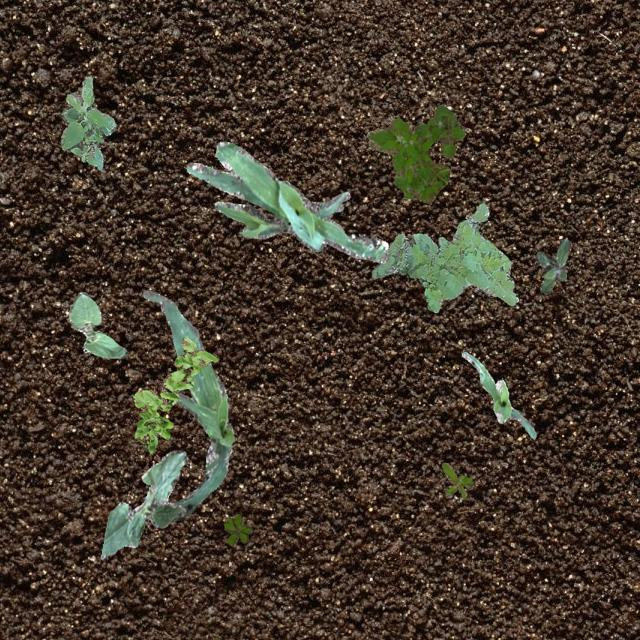crop: (186, 140, 387, 262), (142, 290, 234, 520), (100, 448, 186, 558), (460, 350, 536, 438), (68, 292, 126, 358)
weed: (370, 202, 518, 312), (132, 336, 218, 452), (366, 106, 464, 202), (59, 75, 114, 168), (534, 236, 570, 292), (440, 462, 472, 496), (222, 512, 252, 544)
